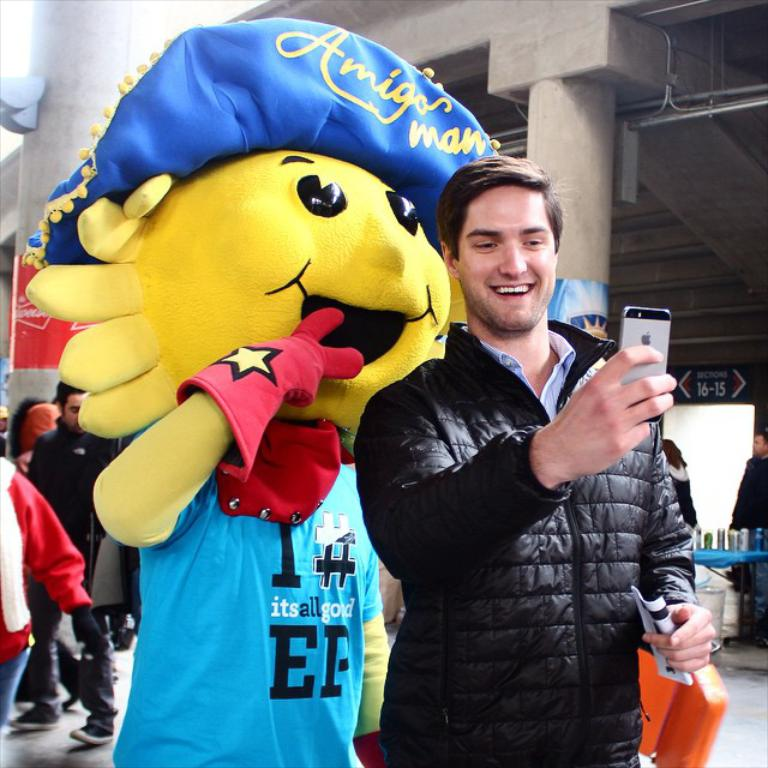Mobile-phone: (620, 305, 676, 386)
